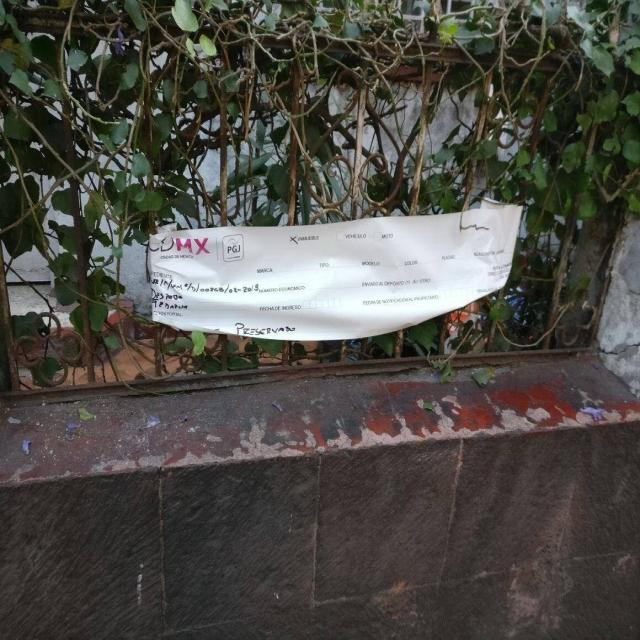stamps: (151, 212, 523, 339)
